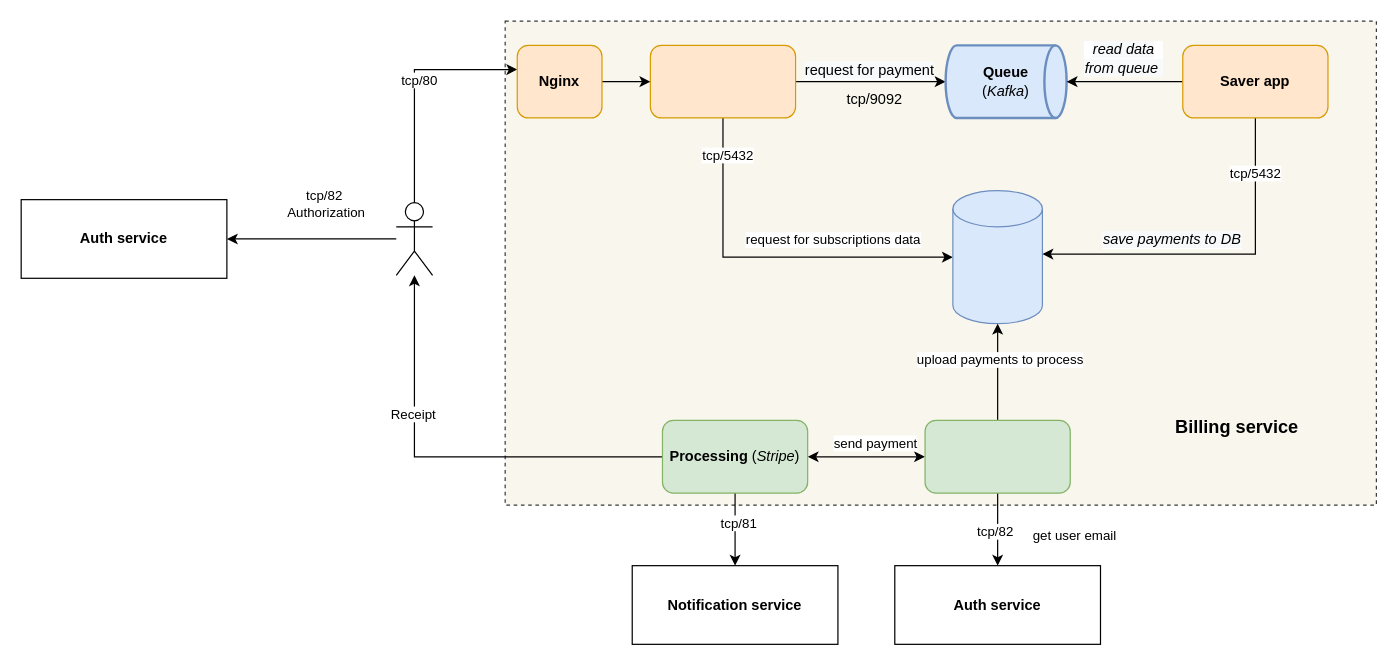
This 1398x666 diagram has some shape labels left out. Here are the shapes that lost their labels. From the top down, the box of each, then its label:
(649, 44, 796, 118): Subscription API
(395, 201, 433, 275): Actor
(952, 189, 1042, 324): DB ( PostgreSQL )
(924, 419, 1070, 493): Processor
